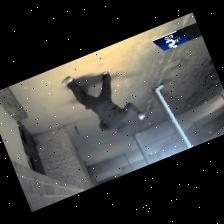person: (62, 71, 144, 133)
